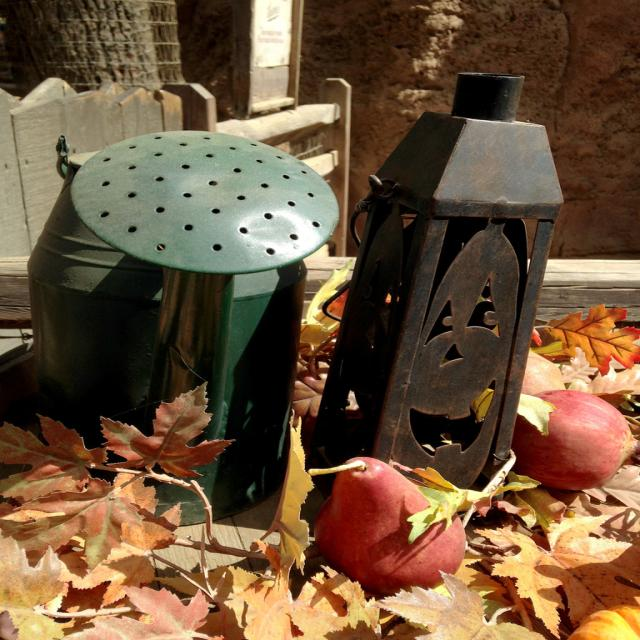pear: (311, 457, 467, 593), (502, 392, 628, 492)
